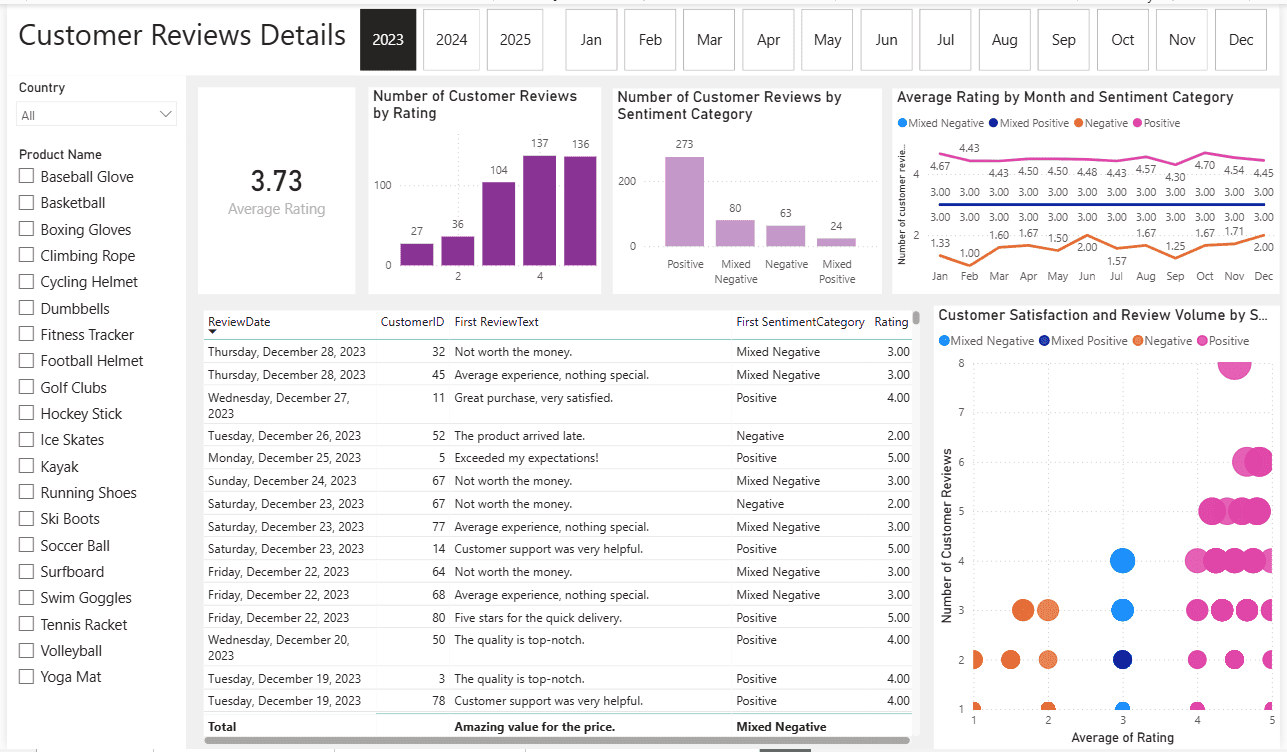

What the dashboard file says about the page in this screenshot:
{"tool":"powerbi","page":{"name":"Customer Reviews Details","canvas":[1400,820],"ordinal":3},"visuals":[{"type":"textbox","box":[0,0,1400.3,78.7],"z":0},{"type":"slicer","fields":{"Values":["dim_product.ProductName"]},"box":[0,151.4,197.1,668.6],"z":1000},{"type":"advancedSlicerVisual","fields":{"Values":["Date.Year"]},"box":[382.9,0,212.9,78.6],"z":2000},{"type":"advancedSlicerVisual","fields":{"Values":["Date.MonthNameShort"]},"box":[610,0,790,78.6],"z":3000},{"type":"cardVisual","fields":{"Data":["_mesures.Average Rating"]},"box":[210.3,91.5,173.1,227.4],"z":4000},{"type":"clusteredColumnChart","title":"Number of Customer Reviews by Rating","fields":{"Category":["fact_customer_reviews.Rating"],"Y":["CountNonNull(fact_customer_reviews.CustomerID)"]},"box":[397.3,91.1,256,227.4],"z":5000},{"type":"clusteredColumnChart","title":"Number of Customer Reviews by Sentiment Category ","fields":{"Category":["fact_customer_reviews_with_sentiment.SentimentCategory"],"Y":["CountNonNull(fact_customer_reviews_with_sentiment.CustomerID)"]},"box":[666.2,92.5,296.1,226],"z":6000},{"type":"lineChart","title":"Average Rating by Month and Sentiment Category","fields":{"Category":["Date.MonthNameShort"],"Series":["fact_customer_reviews_with_sentiment.SentimentCategory"],"Y":["Avg(fact_customer_reviews_with_sentiment.Rating)"]},"box":[973.7,92.5,426.2,226],"z":7000},{"type":"tableEx","fields":{"Values":["fact_customer_reviews_with_sentiment.ReviewDate","fact_customer_reviews_with_sentiment.CustomerID","Min(fact_customer_reviews_with_sentiment.ReviewText)","Min(fact_customer_reviews_with_sentiment.SentimentCategory)","fact_customer_reviews_with_sentiment.Rating"]},"box":[210.3,331.8,799.6,487.8],"z":8000},{"type":"scatterChart","title":"Customer Satisfaction and Review Volume by Sentiment","fields":{"Category":["dim_customer.CustomerID"],"Y":["_mesures.Number of Customer Reviews"],"X":["Avg(fact_customer_reviews_with_sentiment.Rating)"],"Series":["fact_customer_reviews_with_sentiment.SentimentCategory"],"Size":["_mesures.Number of Customer Reviews"]},"box":[1019.8,331.8,380.5,487.8],"z":9000},{"type":"slicer","fields":{"Values":["dim_customer.Country"]},"box":[0,78.6,197.1,72.9],"z":10000}]}

Visuals, with their boxes in screenshot pixels (x1, y1, x2, y2), scaled from the page's 1400x820 canvas onto the 1287x752 screenshot:
textbox: BBox(0, 0, 1286, 72)
slicer - dim_product.ProductName: BBox(0, 139, 181, 751)
advancedSlicerVisual - Date.Year: BBox(352, 0, 548, 72)
advancedSlicerVisual - Date.MonthNameShort: BBox(561, 0, 1286, 72)
cardVisual - _mesures.Average Rating: BBox(193, 84, 352, 292)
"Number of Customer Reviews by Rating" clusteredColumnChart: BBox(365, 84, 601, 292)
"Number of Customer Reviews by Sentiment Category " clusteredColumnChart: BBox(612, 85, 885, 292)
"Average Rating by Month and Sentiment Category" lineChart: BBox(895, 85, 1286, 292)
tableEx - fact_customer_reviews_with_sentiment.ReviewDate x fact_customer_reviews_with_sentiment.CustomerID: BBox(193, 304, 928, 751)
"Customer Satisfaction and Review Volume by Sentiment" scatterChart: BBox(937, 304, 1286, 751)
slicer - dim_customer.Country: BBox(0, 72, 181, 139)
